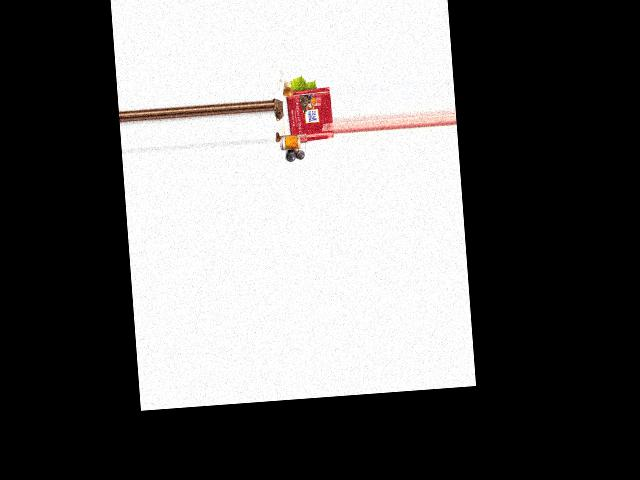chocolate: (286, 85, 333, 141)
